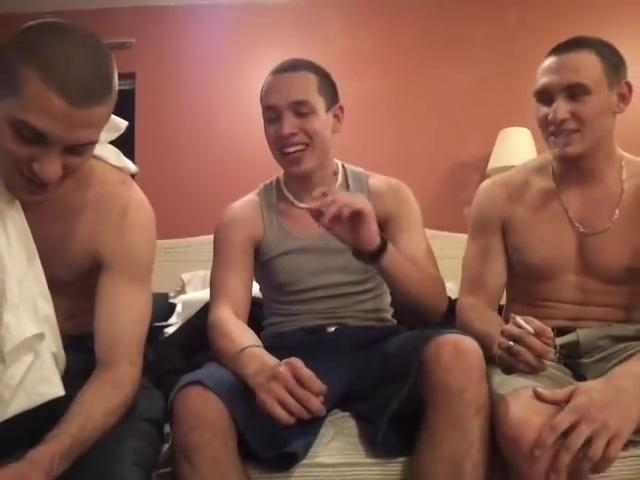cigarette: (510, 314, 542, 339)
